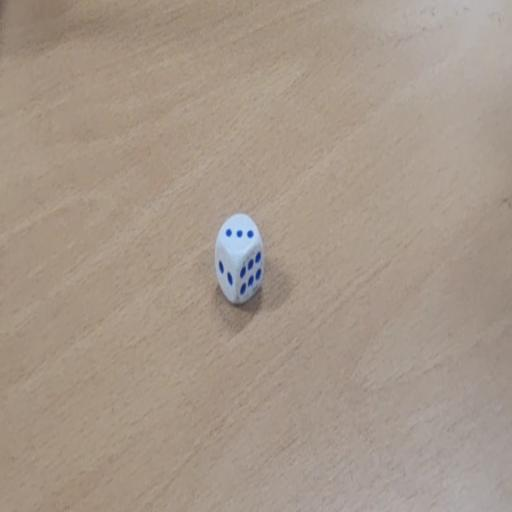dice_3: (214, 213, 264, 306)
